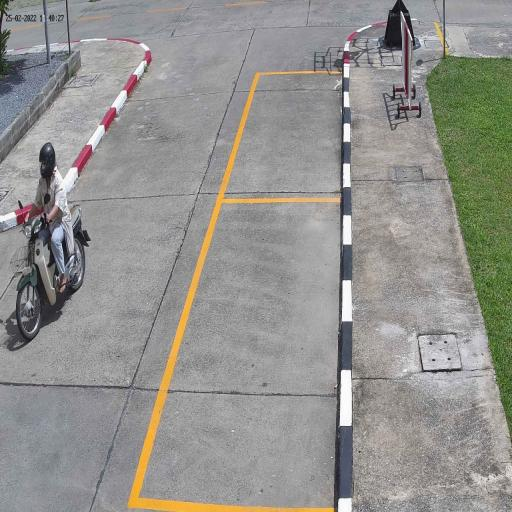motorcycle: (15, 212, 87, 342)
